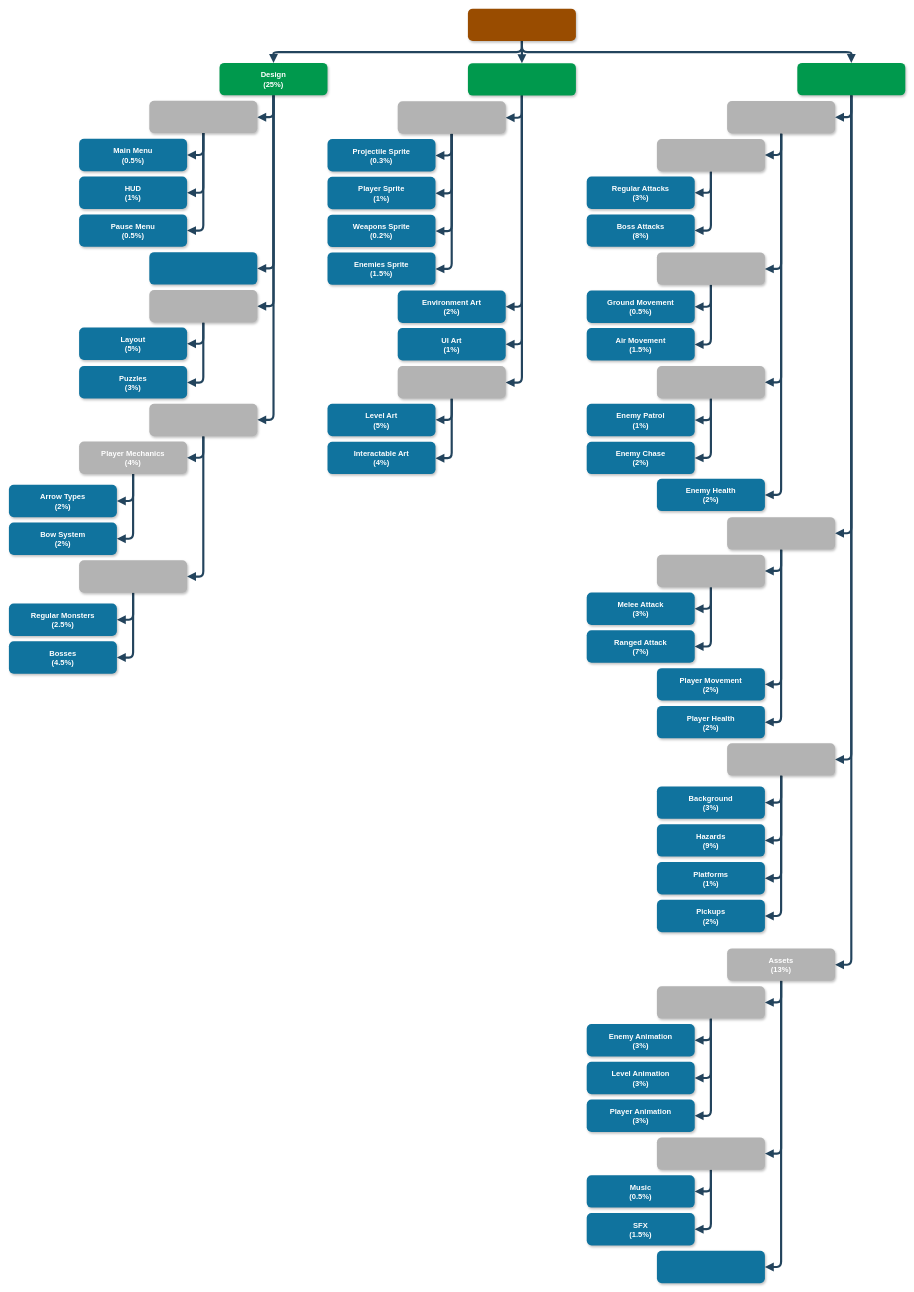
Image size: 914x1292. Some labels were removed from this diagram. The centre of each missing label's shape, as x and y in pixels:
Animation (9%): point 452,383
Animation Integration (9%): point 711,1003
Art (15%): point 522,80
Audio (2%): point 711,1154
Character Art (3%): point 452,118
Code (60%): point 851,79
Code Name Hawkeye (100%): point 522,25
Enemies (18%): point 781,118
Enemy AI (3%): point 711,383
Enemy Attacks (11%): point 711,156
Enemy Movement (2%): point 711,269
Game UI (2%): point 203,117
Gameplay (12%): point 203,420
GDD (3%): point 203,269
Level (15%): point 781,760
Level Design (8%): point 203,307
Monsters Mechanics (8%): point 133,577
Player (14%): point 781,534
Player Combat (10%): point 711,571
UI (2%): point 711,1267
